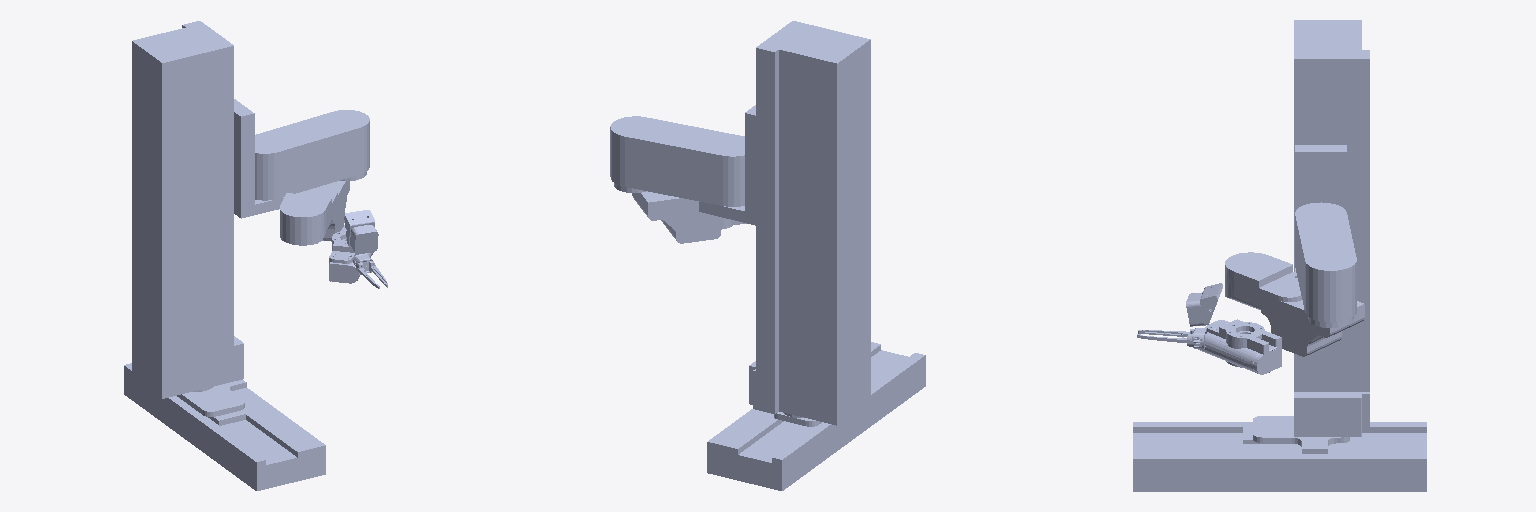
URDF robot description (berrybolter_arm):
<?xml version="1.0" encoding="utf-8"?>
<!-- This URDF was automatically created by SolidWorks to URDF Exporter! Originally created by Stephen Brawner (brawner@gmail.com) 
     Commit Version: 1.6.0-4-g7f85cfe  Build Version: 1.6.7995.38578
     For more information, please see http://wiki.ros.org/sw_urdf_exporter -->
<robot
  name="berrybolter_arm">
  <link name="arm_base" > </link>
  <joint name="arm_base_joint" type="fixed">
    <origin
      xyz="0 0 0"
      rpy="0 0 0" />
    <parent
      link="arm_base" />
    <child
      link="base_link" />
    <axis
      xyz="0 0 0" />
  </joint>
 <link
    name="base_link">
    <inertial>
      <origin
        xyz="0.0197211670736996 0.182399794343525 -0.0295090040010643"
        rpy="0 0 0" />
      <mass
        value="1.06323708367674" />
      <inertia
        ixx="0.0106130412322237"
        ixy="6.04961182724918E-07"
        ixz="-3.49479168027295E-07"
        iyy="0.00046953336886374"
        iyz="-5.37613073875177E-07"
        izz="0.0106608814519074" />
    </inertial>
    <visual>
      <origin
        xyz="0 0 0"
        rpy="0 0 0" />
      <geometry>
        <mesh
          filename="package://berrybolter_arm_description/meshes_single_arm/visual/base_link.STL" />
      </geometry>
      <material
        name="">
        <color
          rgba="0.792156862745098 0.819607843137255 0.933333333333333 1" />
      </material>
    </visual>
    <collision>
      <origin
        xyz="0 0 0"
        rpy="0 0 0" />
      <geometry>
        <mesh
          filename="package://berrybolter_arm_description/meshes_single_arm/collision/base_link.STL" />
      </geometry>
    </collision>
  </link>
  <link
    name="link1">
    <inertial>
      <origin
        xyz="0.00506930950822041 -0.0593603114083569 -0.00761106543376755"
        rpy="0 0 0" />
      <mass
        value="0.158262849711928" />
      <inertia
        ixx="0.000225954058093258"
        ixy="-1.68536374155788E-05"
        ixz="-4.7610312852057E-07"
        iyy="0.000114241679910785"
        iyz="-5.65072531384223E-07"
        izz="0.000337713332686057" />
    </inertial>
    <visual>
      <origin
        xyz="0 0 0"
        rpy="0 0 0" />
      <geometry>
        <mesh
          filename="package://berrybolter_arm_description/meshes_single_arm/visual/link1.STL" />
      </geometry>
      <material
        name="">
        <color
          rgba="0.792156862745098 0.819607843137255 0.933333333333333 1" />
      </material>
    </visual>
    <collision>
      <origin
        xyz="0 0 0"
        rpy="0 0 0" />
      <geometry>
        <mesh
          filename="package://berrybolter_arm_description/meshes_single_arm/collision/link1.STL" />
      </geometry>
    </collision>
  </link>
  <joint
    name="joint1"
    type="prismatic">
    <origin
      xyz="0 0.14775 0.015"
      rpy="0 0 0" />
    <parent
      link="base_link" />
    <child
      link="link1" />
    <axis
      xyz="0 1 0" />
    <limit
      lower="0.001"
      upper="0.235"
      effort="0"
      velocity="0" />
  </joint>
  <link
    name="link2">
    <inertial>
      <origin
        xyz="0.0184895167105354 -0.0139430145360977 0.23955661765532"
        rpy="0 0 0" />
      <mass
        value="2.18422282264348" />
      <inertia
        ixx="0.0296378356876729"
        ixy="3.95234042255307E-07"
        ixz="-5.4329774822049E-06"
        iyy="0.029579439878013"
        iyz="9.17655854255314E-05"
        izz="0.00136581284035559" />
    </inertial>
    <visual>
      <origin
        xyz="0 0 0"
        rpy="0 0 0" />
      <geometry>
        <mesh
          filename="package://berrybolter_arm_description/meshes_single_arm/visual/link2.STL" />
      </geometry>
      <material
        name="">
        <color
          rgba="0.792156862745098 0.819607843137255 0.933333333333333 1" />
      </material>
    </visual>
    <collision>
      <origin
        xyz="0 0 0"
        rpy="0 0 0" />
      <geometry>
        <mesh
          filename="package://berrybolter_arm_description/meshes_single_arm/collision/link2.STL" />
      </geometry>
    </collision>
  </link>
  <joint
    name="joint2"
    type="revolute">
    <origin
      xyz="0 -0.01 0"
      rpy="0 0 0" />
    <parent
      link="link1" />
    <child
      link="link2" />
    <axis
      xyz="0 0 -1" />
    <limit
      lower="-6.28"
      upper="6.28"
      effort="100"
      velocity="100" />
  </joint>
  <link
    name="link3">
    <inertial>
      <origin
        xyz="0.00388065991284213 0.00253110477111378 -0.00928648381246971"
        rpy="0 0 0" />
      <mass
        value="0.329043385525775" />
      <inertia
        ixx="0.000469319685233757"
        ixy="2.49004452925998E-07"
        ixz="0.00011328997996073"
        iyy="0.000508366053747164"
        iyz="-1.86273600616433E-06"
        izz="0.000315499973006906" />
    </inertial>
    <visual>
      <origin
        xyz="0 0 0"
        rpy="0 0 0" />
      <geometry>
        <mesh
          filename="package://berrybolter_arm_description/meshes_single_arm/visual/link3.STL" />
      </geometry>
      <material
        name="">
        <color
          rgba="0.792156862745098 0.819607843137255 0.933333333333333 1" />
      </material>
    </visual>
    <collision>
      <origin
        xyz="0 0 0"
        rpy="0 0 0" />
      <geometry>
        <mesh
          filename="package://berrybolter_arm_description/meshes_single_arm/collision/link3.STL" />
      </geometry>
    </collision>
  </link>
  <joint
    name="joint3"
    type="prismatic">
    <origin
      xyz="0.09 -0.0090742 0.15096"
      rpy="0 0 0" />
    <parent
      link="link2" />
    <child
      link="link3" />
    <axis
      xyz="0 0 1" />
    <limit
      lower="0.01"
      upper="0.45"
      effort="100"
      velocity="100" />
  </joint>
  <link
    name="link4">
    <inertial>
      <origin
        xyz="0.0503580079754425 -1.18094902312738E-06 -0.0340360566082137"
        rpy="0 0 0" />
      <mass
        value="0.524692553464717" />
      <inertia
        ixx="0.000351855249124899"
        ixy="4.9054358893413E-08"
        ixz="-4.25169598638684E-05"
        iyy="0.000844815591844293"
        iyz="-6.934405405398E-09"
        izz="0.000959740855494068" />
    </inertial>
    <visual>
      <origin
        xyz="0 0 0"
        rpy="0 0 0" />
      <geometry>
        <mesh
          filename="package://berrybolter_arm_description/meshes_single_arm/visual/link4.STL" />
      </geometry>
      <material
        name="">
        <color
          rgba="0.792156862745098 0.819607843137255 0.933333333333333 1" />
      </material>
    </visual>
    <collision>
      <origin
        xyz="0 0 0"
        rpy="0 0 0" />
      <geometry>
        <mesh
          filename="package://berrybolter_arm_description/meshes_single_arm/collision/link4.STL" />
      </geometry>
    </collision>
  </link>
  <joint
    name="joint4"
    type="revolute">
    <origin
      xyz="0.044 -0.0011758 -0.044462"
      rpy="-3.1416 0 1.666" />
    <parent
      link="link3" />
    <child
      link="link4" />
    <axis
      xyz="0 0 -1" />
    <limit
      lower="-3.14"
      upper="-0.01"
      effort="100"
      velocity="100" />
  </joint>
  <link
    name="link5">
    <inertial>
      <origin
        xyz="0.0696595786100513 0.0442438413858763 0.0215608314132782"
        rpy="0 0 0" />
      <mass
        value="0.322048325914565" />
      <inertia
        ixx="0.000272154691570352"
        ixy="-0.000117122104649212"
        ixz="1.82097588815412E-05"
        iyy="0.000382683986902875"
        iyz="1.16244011164403E-05"
        izz="0.000539729810082325" />
    </inertial>
    <visual>
      <origin
        xyz="0 0 0"
        rpy="0 0 0" />
      <geometry>
        <mesh
          filename="package://berrybolter_arm_description/meshes_single_arm/visual/link5.STL" />
      </geometry>
      <material
        name="">
        <color
          rgba="0.792156862745098 0.819607843137255 0.933333333333333 1" />
      </material>
    </visual>
    <collision>
      <origin
        xyz="0 0 0"
        rpy="0 0 0" />
      <geometry>
        <mesh
          filename="package://berrybolter_arm_description/meshes_single_arm/collision/link5.STL" />
      </geometry>
    </collision>
  </link>
  <joint
    name="joint5"
    type="revolute">
    <origin
      xyz="0.12 0 0.011"
      rpy="-3.1416 0 2.3966" />
    <parent
      link="link4" />
    <child
      link="link5" />
    <axis
      xyz="0 0 -1" />
    <limit
      lower="-3.6"
      upper="0.001"
      effort="100"
      velocity="100" />
  </joint>
  <link
    name="link6">
    <inertial>
      <origin
        xyz="-0.00898350703370449 0.0018860042428713 -0.0210412937652294"
        rpy="0 0 0" />
      <mass
        value="0.253827881523726" />
      <inertia
        ixx="9.15686968551811E-05"
        ixy="-2.69909446757586E-05"
        ixz="-6.02648533003112E-06"
        iyy="0.000118166267760229"
        iyz="-2.85934681064961E-06"
        izz="0.000167537055343731" />
    </inertial>
    <visual>
      <origin
        xyz="0 0 0"
        rpy="0 0 0" />
      <geometry>
        <mesh
          filename="package://berrybolter_arm_description/meshes_single_arm/visual/link6.STL" />
      </geometry>
      <material
        name="">
        <color
          rgba="0.792156862745098 0.819607843137255 0.933333333333333 1" />
      </material>
    </visual>
    <collision>
      <origin
        xyz="0 0 0"
        rpy="0 0 0" />
      <geometry>
        <mesh
          filename="package://berrybolter_arm_description/meshes_single_arm/collision/link6.STL" />
      </geometry>
    </collision>
  </link>
  <joint
    name="joint6"
    type="revolute">
    <origin
      xyz="0.10972 0.069719 -0.048"
      rpy="0 0 1.9745" />
    <parent
      link="link5" />
    <child
      link="link6" />
    <axis
      xyz="0 0 -1" />
    <limit
      lower="0.0001"
      upper="4.0"
      effort="100"
      velocity="100" />
  </joint>
  <link
    name="link7">
    <inertial>
      <origin
        xyz="-5.13693382485636E-05 7.66057031120482E-05 0.0225778260109123"
        rpy="0 0 0" />
      <mass
        value="0.0181964941545657" />
      <inertia
        ixx="4.10896228611005E-06"
        ixy="-3.93663813725556E-08"
        ixz="-3.47720386354237E-09"
        iyy="4.17136167264014E-06"
        iyz="-1.77211252139154E-08"
        izz="1.40911225959865E-06" />
    </inertial>
    <visual>
      <origin
        xyz="0 0 0"
        rpy="0 0 0" />
      <geometry>
        <mesh
          filename="package://berrybolter_arm_description/meshes_single_arm/visual/link7.STL" />
      </geometry>
      <material
        name="">
        <color
          rgba="0.792156862745098 0.819607843137255 0.933333333333333 1" />
      </material>
    </visual>
    <collision>
      <origin
        xyz="0 0 0"
        rpy="0 0 0" />
      <geometry>
        <mesh
          filename="package://berrybolter_arm_description/meshes_single_arm/collision/link7.STL" />
      </geometry>
    </collision>
  </link>
  <joint
    name="joint7"
    type="revolute">
    <origin
      xyz="0.050498 0.034219 -0.02501"
      rpy="-1.5708 0 -0.97525" />
    <parent
      link="link6" />
    <child
      link="link7" />
    <axis
      xyz="0 0 -1" />
    <limit
      lower="-3.14"
      upper="3.14"
      effort="100"
      velocity="100" />
  </joint>
  <link
    name="ee_link">
    <inertial>
      <origin
        xyz="-0.000104505702900409 0.000576605703114075 -0.0439221739890979"
        rpy="0 0 0" />
      <mass
        value="0.018196495395731" />
      <inertia
        ixx="4.10896228611005E-06"
        ixy="-3.93663813725556E-08"
        ixz="-3.47720386354927E-09"
        iyy="4.17136167264014E-06"
        iyz="-1.77211252139153E-08"
        izz="1.40911225959865E-06" />
    </inertial>
    <visual>
      <origin
        xyz="0 0 0"
        rpy="0 0 0" />
      <geometry>
        <mesh
          filename="package://berrybolter_arm_description/meshes_single_arm/visual/ee_link.STL" />
      </geometry>
      <material
        name="">
        <color
          rgba="0.792156862745098 0.819607843137255 0.933333333333333 1" />
      </material>
    </visual>
    <collision>
      <origin
        xyz="0 0 0"
        rpy="0 0 0" />
      <geometry>
        <mesh
          filename="package://berrybolter_arm_description/meshes_single_arm/collision/ee_link.STL" />
      </geometry>
    </collision>
  </link>
  <joint
    name="ee_joint"
    type="fixed">
    <origin
      xyz="5.31363646517069E-05 -0.000500000000002027 0.0665000000000101"
      rpy="0 0 0" />
    <parent
      link="link7" />
    <child
      link="ee_link" />
    <axis
      xyz="0 0 0" />
    <limit
      lower="0"
      upper="0"
      effort="0"
      velocity="0" />
  </joint>
  <link
    name="camera_link">
    <inertial>
      <origin
        xyz="-0.00836173295042576 -0.0089553548686081 -0.00680992475882553"
        rpy="0 0 0" />
      <mass
        value="0.031379859428563" />
      <inertia
        ixx="1.2078665761647E-05"
        ixy="6.71231870716078E-10"
        ixz="-1.23446693039961E-06"
        iyy="7.09477740111002E-06"
        iyz="3.79676979930018E-10"
        izz="7.52636014077323E-06" />
    </inertial>
    <visual>
      <origin
        xyz="0 0 0"
        rpy="0 0 0" />
      <geometry>
        <mesh
          filename="package://berrybolter_arm_description/meshes_single_arm/visual/camera_link.STL" />
      </geometry>
      <material
        name="">
        <color
          rgba="0.792156862745098 0.819607843137255 0.933333333333333 1" />
      </material>
    </visual>
    <collision>
      <origin
        xyz="0 0 0"
        rpy="0 0 0" />
      <geometry>
        <mesh
          filename="package://berrybolter_arm_description/meshes_single_arm/collision/camera_link.STL" />
      </geometry>
    </collision>
  </link>
  <joint
    name="camera_joint"
    type="fixed">
    <origin
      xyz="0.0535264795602718 0.0471423874193815 0.0242769003020624"
      rpy="0 0.174532925199436 0.595548901018759" />
    <parent
      link="link6" />
    <child
      link="camera_link" />
    <axis
      xyz="0 0 0" />
  </joint>
</robot>

--- Facts derived from the render (not from the file) ---
The picture shows the robot from 3 angles, left to right: view 1: azimuth 30°, elevation 25°; view 2: azimuth 150°, elevation 25°; view 3: azimuth 270°, elevation 25°; orthographic projection.
Robot: berrybolter_arm — 11 links, 10 joints (5 revolute, 2 prismatic, 3 fixed); root link arm_base; default pose: joints at zero except 4 at the middle of their limits (joint1 = 0.118, joint3 = 0.23, joint4 = -1.57, joint6 = 2).
Visible links, largest first — view 1: link2, base_link, link4, link5, link3, link1, camera_link, link6; view 2: link2, base_link, link4, link5, link3; view 3: link2, base_link, link4, link5, link6, link3, link1, camera_link, link7.
Boxes of the visible links, bbox=[...] form: link2: bbox=[132, 21, 243, 398]; base_link: bbox=[124, 363, 325, 490]; link4: bbox=[255, 110, 369, 200]; link5: bbox=[280, 181, 349, 245]; link3: bbox=[234, 99, 283, 218]; link1: bbox=[177, 380, 246, 425]; camera_link: bbox=[344, 210, 378, 254]; link6: bbox=[329, 225, 373, 283]; link2: bbox=[749, 21, 870, 425]; base_link: bbox=[707, 342, 925, 490]; link4: bbox=[610, 116, 744, 206]; link5: bbox=[632, 191, 721, 243]; link3: bbox=[699, 105, 755, 225]; link2: bbox=[1294, 20, 1369, 436]; base_link: bbox=[1133, 422, 1426, 491]; link4: bbox=[1295, 202, 1356, 327]; link5: bbox=[1225, 252, 1364, 356]; link6: bbox=[1198, 319, 1281, 374]; link3: bbox=[1295, 145, 1346, 277]; link1: bbox=[1243, 416, 1349, 453]; camera_link: bbox=[1186, 283, 1222, 326]; link7: bbox=[1137, 328, 1206, 348].
Size in the robot's own frame: 0.4363 by 0.4538 by 0.7165 metres.
Meshes: 10 distinct files referenced, 10 mesh visuals loaded (10 binary STL).
